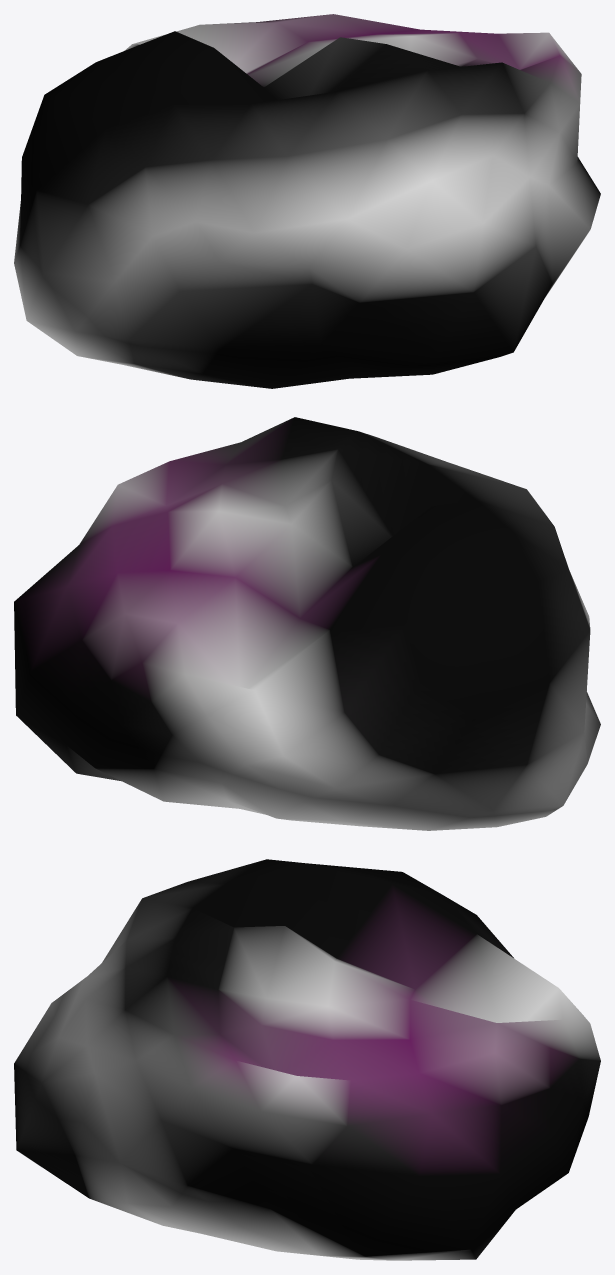
File: biomass 1.fbx
The picture shows the model from 3 angles, top to bottom: view 1: azimuth 30°, elevation 25°; view 2: azimuth 150°, elevation 25°; view 3: azimuth 270°, elevation 25°; orthographic projection. The views are drawn at different scales.
Parts seen in each view (by area): view 1: Icosphere; view 2: Icosphere; view 3: Icosphere.
Boxes of the visible parts, <box> form: Icosphere: <box>14,14,600,388</box>; Icosphere: <box>14,417,600,830</box>; Icosphere: <box>14,859,600,1260</box>.
Size of the model in its own units: 47.02 by 26.51 by 46.71.
